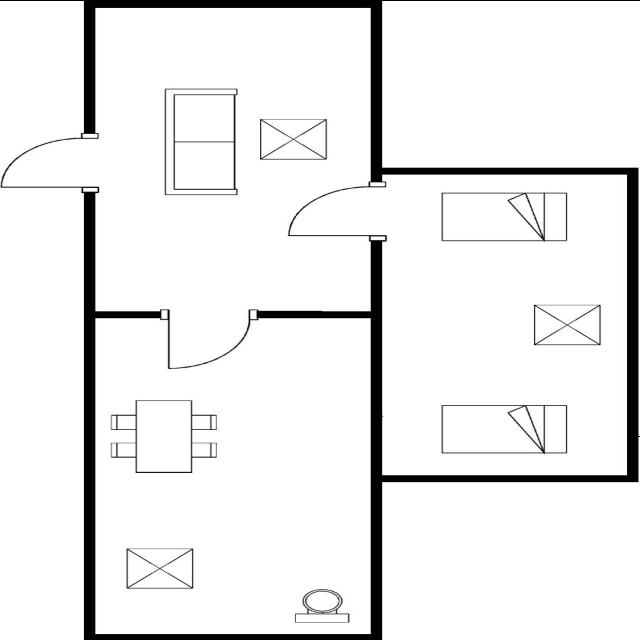bed: (436, 402, 570, 456), (436, 190, 570, 243)
coffee_table: (121, 544, 196, 592), (255, 116, 333, 162), (528, 302, 604, 348)
dining_table: (105, 396, 221, 475)
large_sink: (290, 586, 354, 624)
large_sofa: (160, 84, 240, 198)
